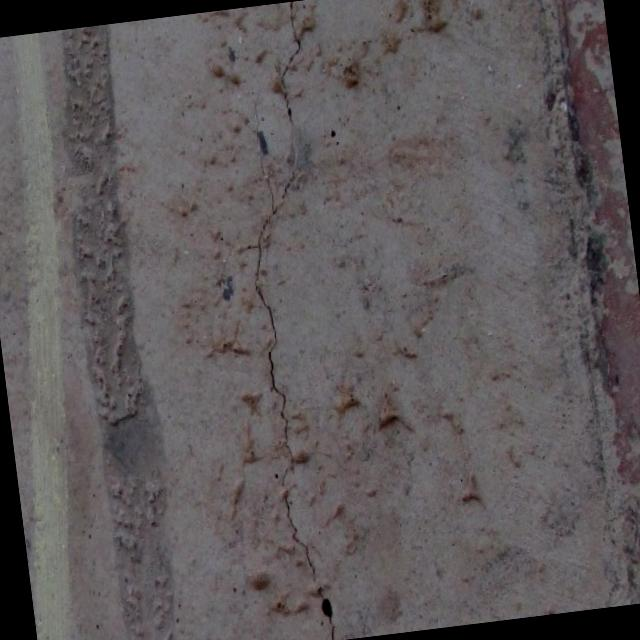crack: (214, 2, 377, 640)
